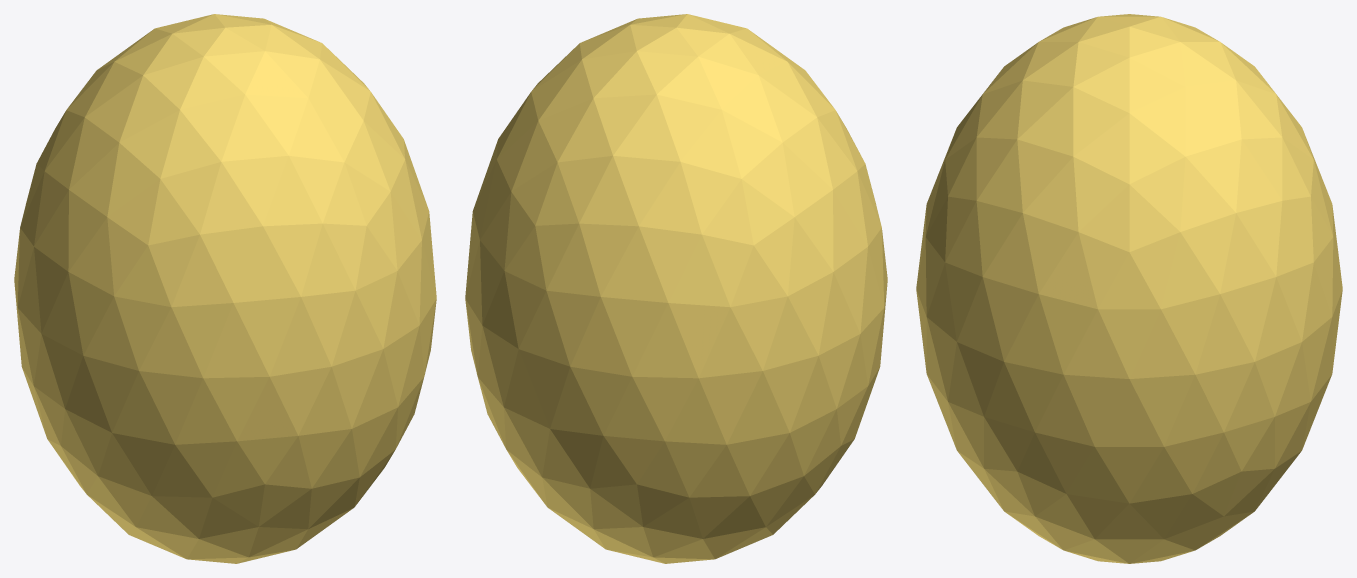
Rendered from Bait_GoldenEgg.fbx.
3 renders of one model, left to right at view 1: azimuth 30°, elevation 25°; view 2: azimuth 150°, elevation 25°; view 3: azimuth 270°, elevation 25°, orthographic.
Visible parts, largest first — view 1: Gold.001; view 2: Gold.001; view 3: Gold.001.
Part boxes in pixels (x1,y1,x2,y2): Gold.001: [14, 14, 436, 563]; Gold.001: [465, 14, 887, 563]; Gold.001: [916, 14, 1342, 563].
Size of the model in its own units: 1.4 by 1.9 by 1.4.
